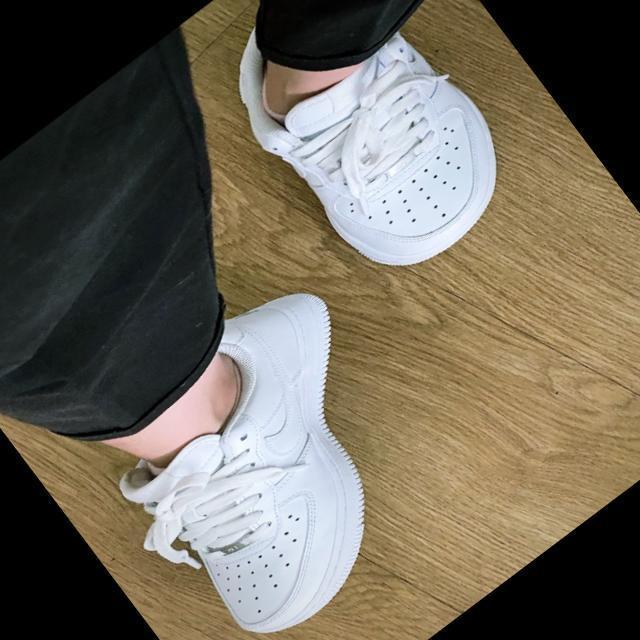nike original air force: (61, 263, 476, 640), (201, 0, 544, 301)
